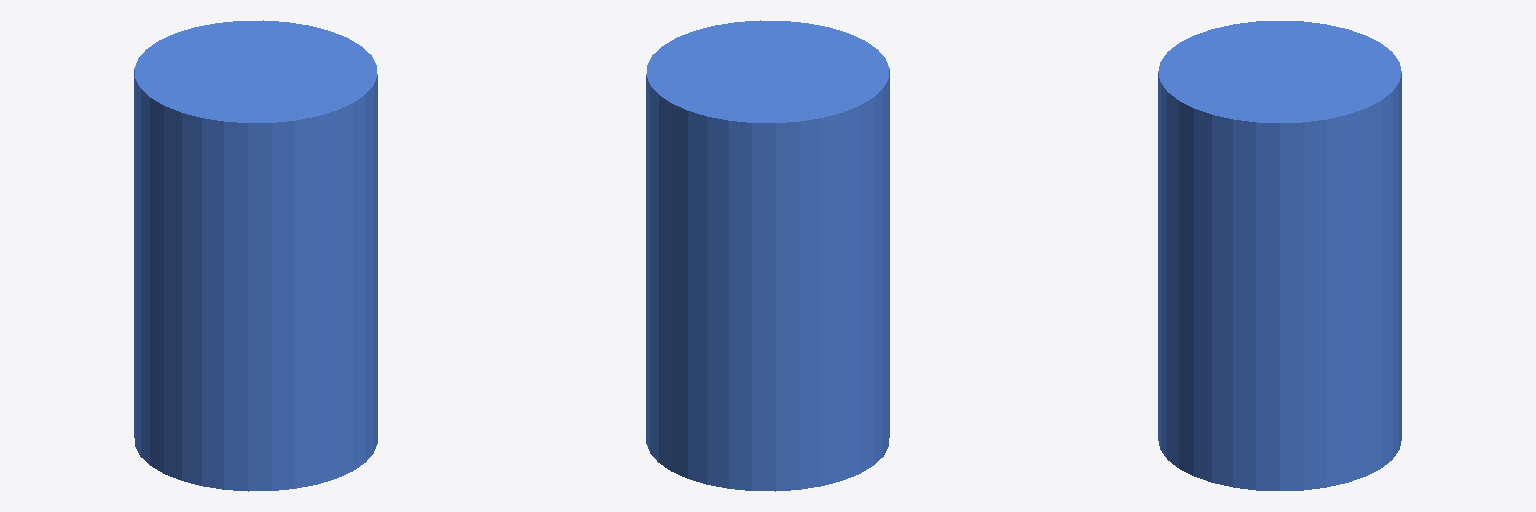
robot.urdf — fr3_link4_robot:
<?xml version="0.0" ?>
<robot name="fr3_link4_robot">
  <link name="base_link">
    <inertial>
      <origin rpy="0 0 0" xyz="0 0 0"/>
       <mass value=".1"/>
       <inertia ixx="1" ixy="0" ixz="0" iyy="1" iyz="0" izz="1"/>
    </inertial>
    
    <visual>
      <origin rpy="0 0 0" xyz="0 0 0.00"/>
      <geometry>
        <cylinder length="0.30" radius="0.09"/>
      </geometry>
      <material name="cornflowerblue">
        <color rgba="0.3921 0.5843 0.9294 0.8"/>
      </material>
    </visual>
  </link>
</robot>

--- Render facts (derived) ---
The picture shows the robot from 3 angles, left to right: view 1: azimuth 30°, elevation 25°; view 2: azimuth 150°, elevation 25°; view 3: azimuth 270°, elevation 25°; orthographic projection.
Model fr3_link4_robot with 1 links and 0 joints (none), rooted at base_link, posed all joints at 0.
Links seen in each view (by area): view 1: base_link; view 2: base_link; view 3: base_link.
Boxes of the visible links, <box> form: base_link: <box>134,20,377,491</box>; base_link: <box>646,20,889,491</box>; base_link: <box>1158,21,1401,490</box>.
Size in the robot's own frame: 0.18 by 0.18 by 0.3 metres.
Geometry: primitives only (box / cylinder / sphere), no mesh files.